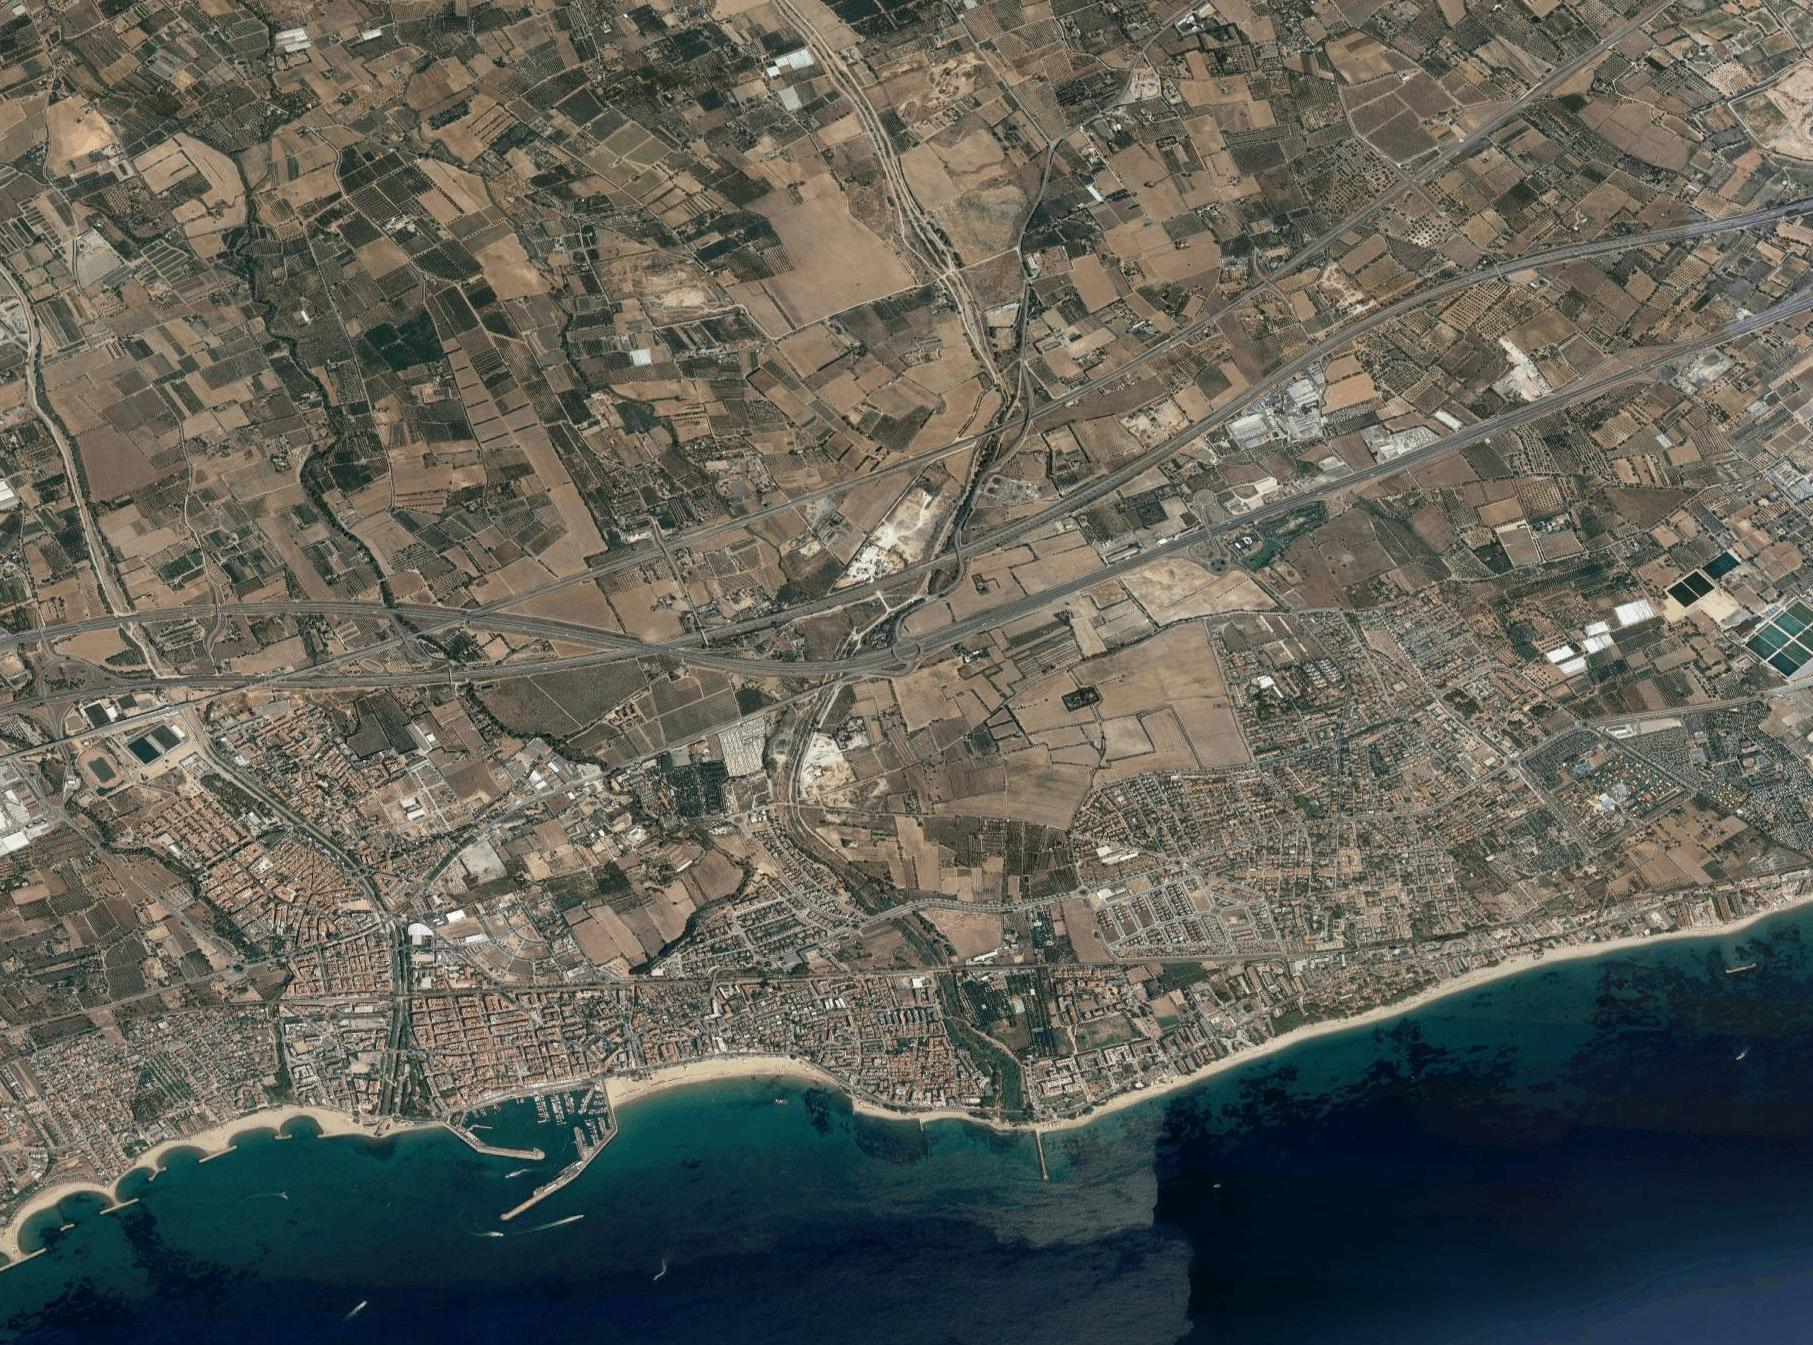harbor: (430, 1065, 633, 1238)
motorway: (1184, 268, 1487, 432), (1481, 170, 1812, 291), (964, 410, 1217, 562), (572, 578, 861, 692), (862, 565, 1088, 691), (1287, 391, 1513, 517), (1509, 314, 1735, 439), (1087, 507, 1311, 633), (287, 576, 572, 648), (1, 582, 285, 654), (1, 665, 285, 737), (290, 647, 572, 719)
